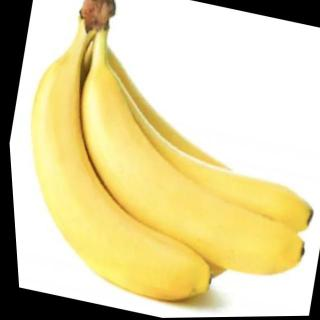banana: (3, 48, 253, 316), (44, 59, 320, 291)
